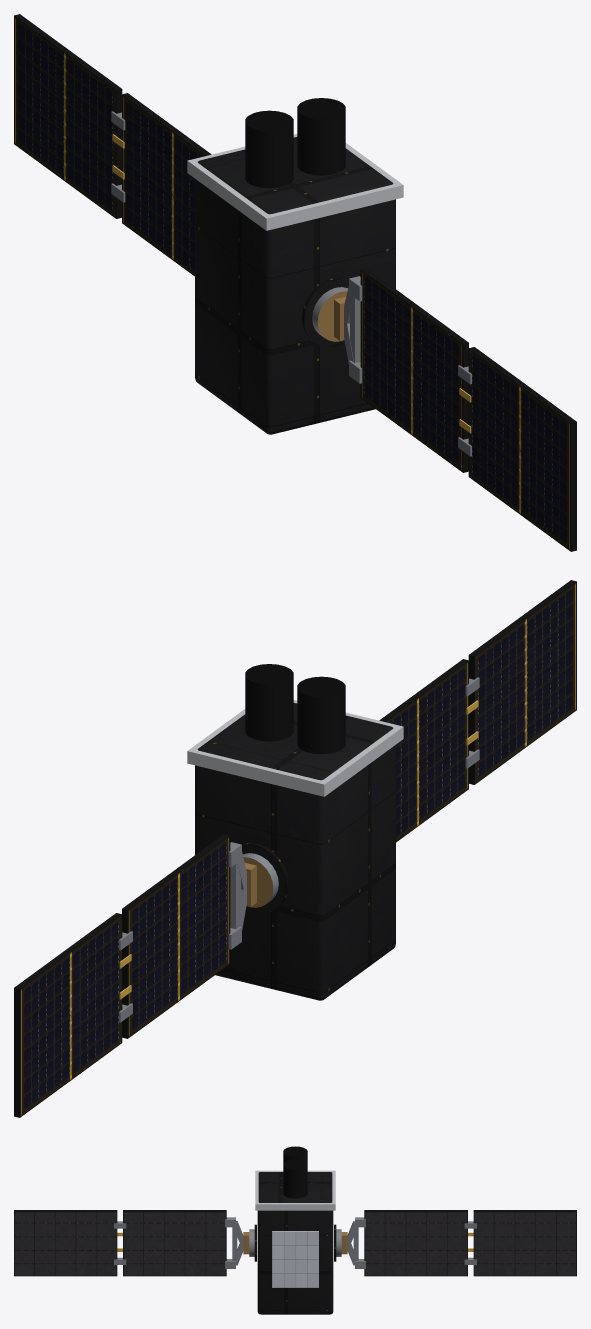
File: newsat.glb
3 views of the same model, one above another, from view 1: azimuth 30°, elevation 25°; view 2: azimuth 150°, elevation 25°; view 3: azimuth 270°, elevation 25° (orthographic). The views are drawn at different scales.
Visible parts, largest first — view 1: bus, wing-Y, wing+Y, sadm_-Y; view 2: bus, wing+Y, wing-Y, sadm_+Y; view 3: wing+Y, wing-Y, bus, sadm_+Y, sadm_-Y.
Boxes of the visible parts, box(x1,y1,x2,y2) form: bus: box(187, 98, 403, 434); wing-Y: box(334, 268, 576, 551); wing+Y: box(14, 14, 211, 276); sadm_-Y: box(302, 276, 349, 346); bus: box(187, 664, 403, 1000); wing+Y: box(14, 834, 256, 1117); wing-Y: box(379, 580, 576, 842); sadm_+Y: box(241, 842, 288, 912); wing+Y: box(341, 1210, 576, 1276); wing-Y: box(14, 1210, 249, 1276); bus: box(255, 1146, 335, 1314); sadm_+Y: box(334, 1224, 341, 1261); sadm_-Y: box(249, 1224, 256, 1261).
Bounding box in the file's own units: 0.58 × 1.13 × 4.08.
Materials: 12 (4 with a texture image).
